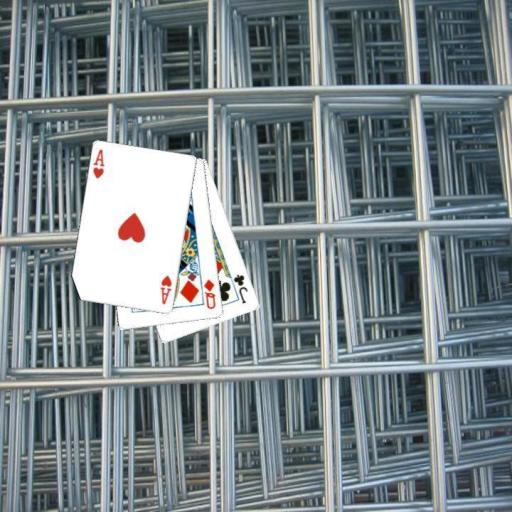card-corner: (230, 271, 250, 305), (200, 276, 218, 311), (157, 272, 174, 306), (90, 146, 106, 180)
